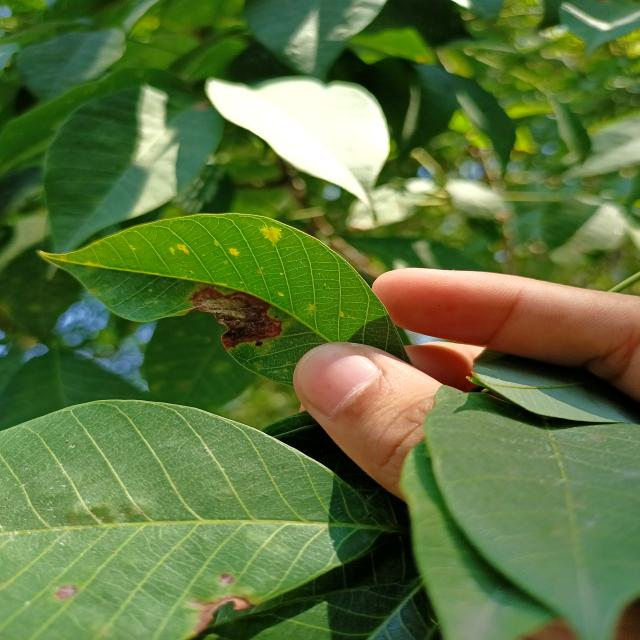Colletotrichum: (255, 341, 263, 346), (275, 316, 278, 318)
Leaf-Blight: (186, 286, 283, 350), (194, 595, 254, 634)
